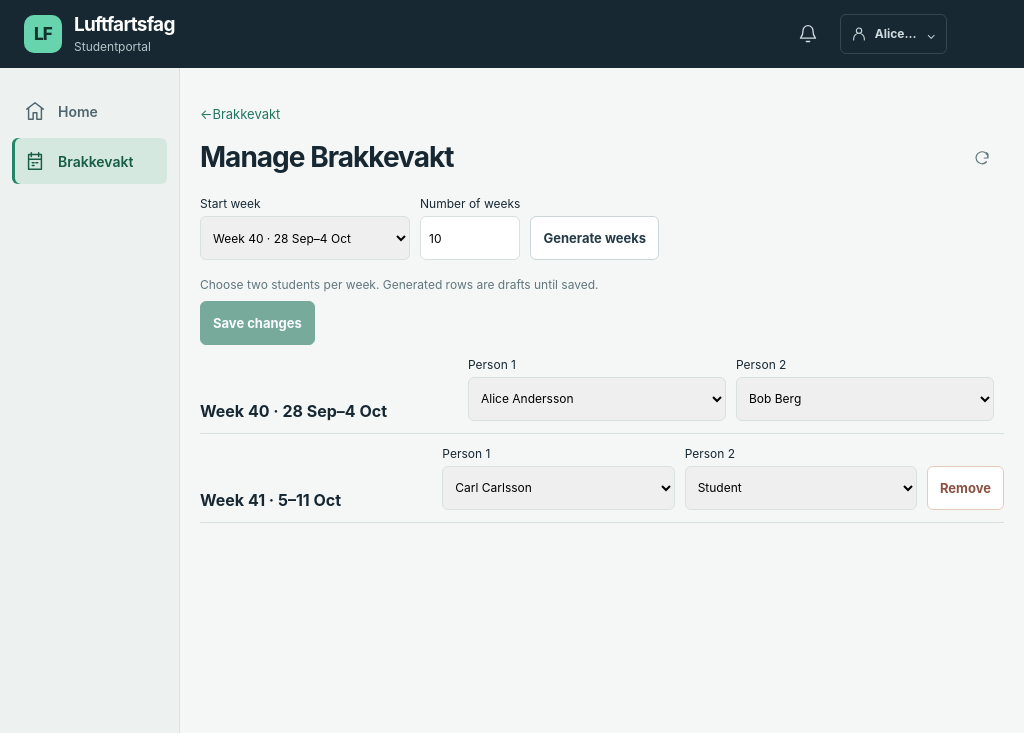
Test case: Brakkevakt portal UI › allows a designated student manager to prepare 10 unsaved weeks from a name-only roster
The image size is (1024, 733).
Check: the heading "Manage Brakkevakt" is shown, box x1=200 y1=141 x2=454 y2=175
Check: the link to "/brakkevakt" is shown, box x1=12 y1=138 x2=167 y2=184
Click the button "Generate weeks": (595, 238) x1=530 y1=216 x2=659 y2=260
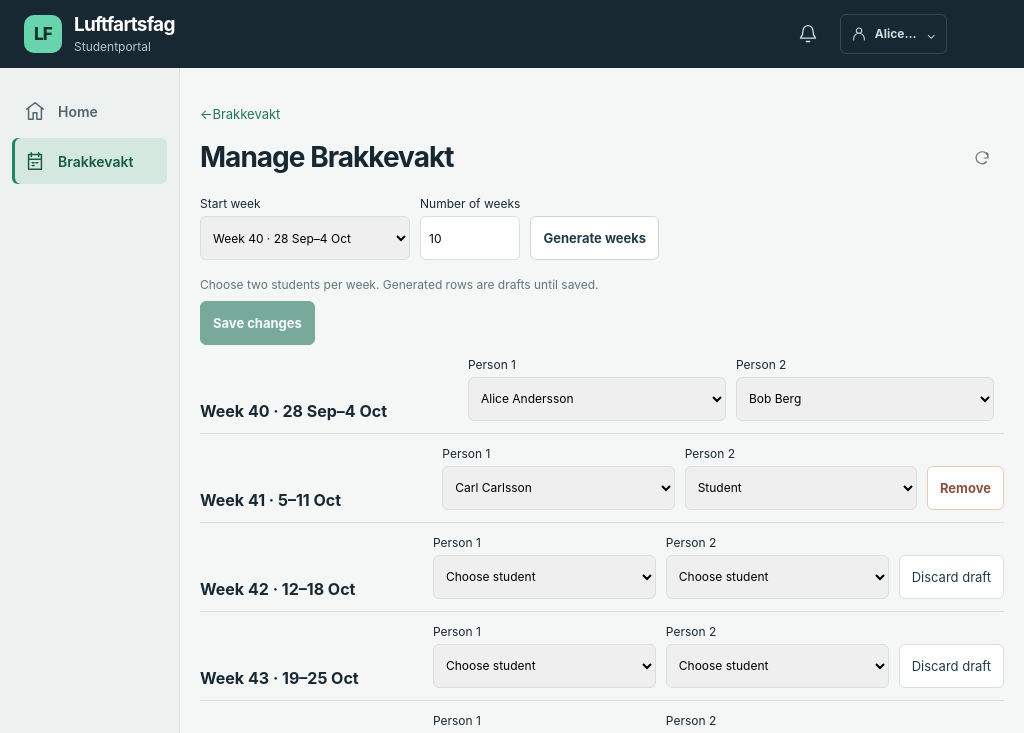
Check: the number of elements with class "brakkevakt-manage-row" is 10
